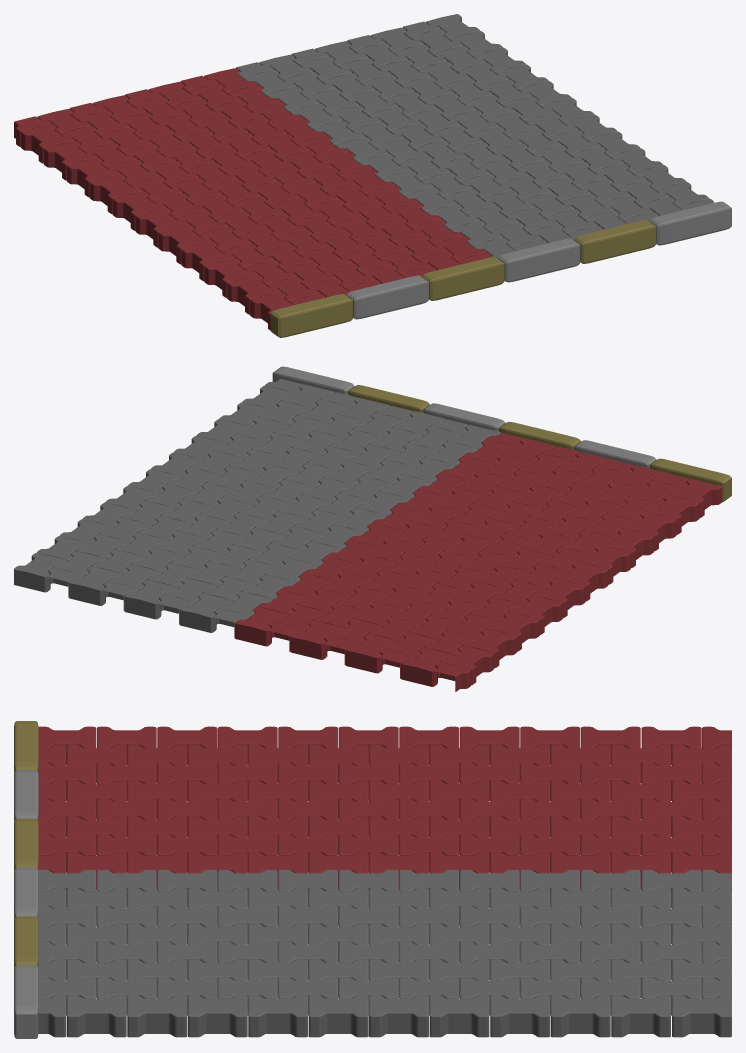
Rendered from kaldirim.fbx.
3 views of the same model, one above another, from view 1: azimuth 30°, elevation 25°; view 2: azimuth 150°, elevation 25°; view 3: azimuth 270°, elevation 25° (orthographic). The views are drawn at different scales.
Parts seen in each view (by area): view 1: kaldirim; view 2: kaldirim; view 3: kaldirim.
Boxes of the visible parts, x1=… form: kaldirim: x1=14, y1=14, x2=731, y2=337; kaldirim: x1=14, y1=366, x2=731, y2=691; kaldirim: x1=14, y1=721, x2=731, y2=1038.
Size of the model in its own units: 2775 by 132 by 2879.
